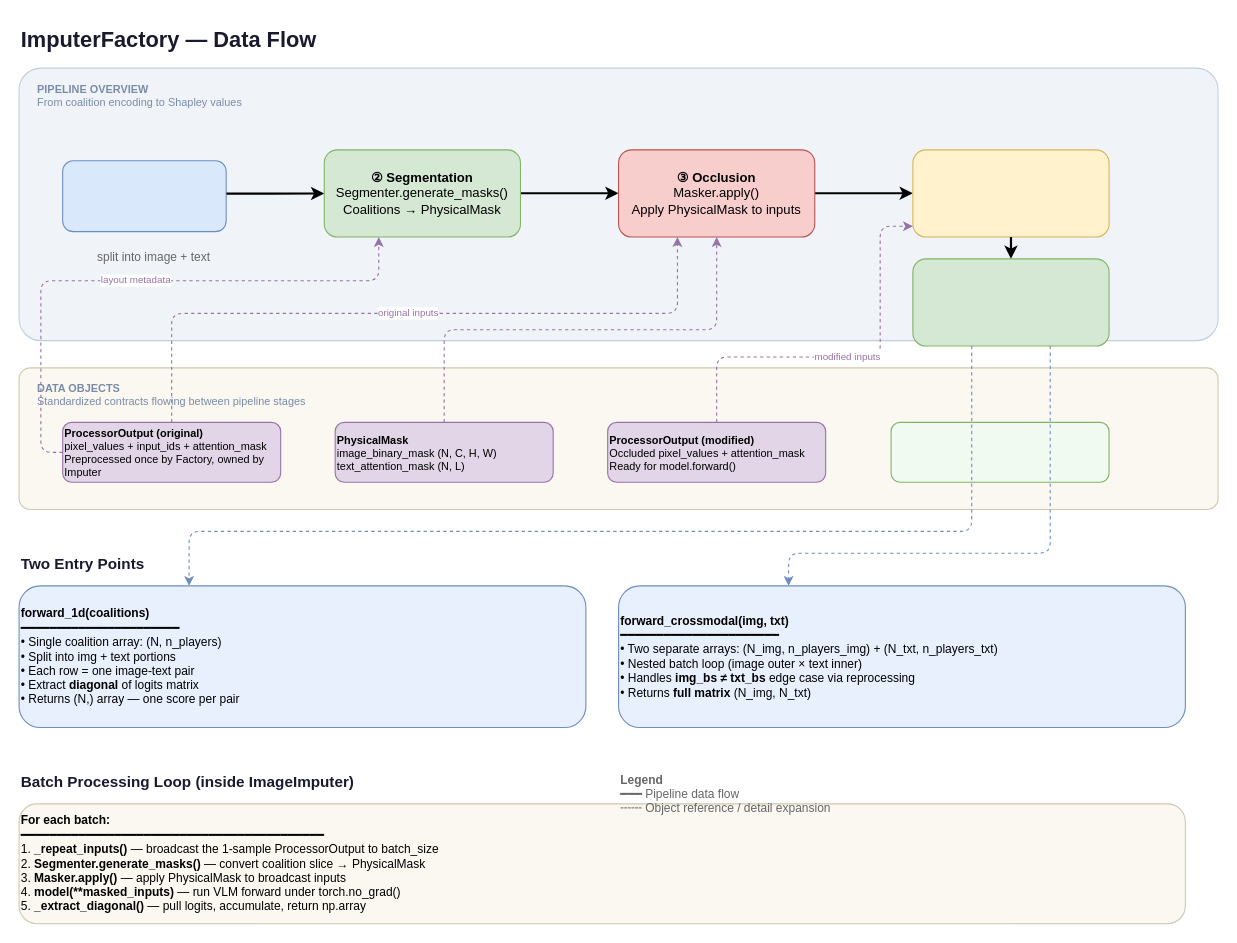
The diagram is 1237 pixels wide and 943 high, and some of its shapes have lost their labels. The shapes that lost their labels are listed below. From the top down, each one's centre as x and y in pixels, then its label:
the point at 144,196: ① Coalition Input np.ndarray[bool] (N, n_players)
the point at 1010,193: ④ Model Forward model(**inputs) VLM inference (CLIP/SigLIP)
the point at 1010,302: ⑤ Output Logits → np.ndarray → VisionLanguageGame → shapiq
the point at 999,451: Logits / np.array Similarity scores Consumed by shapiq
